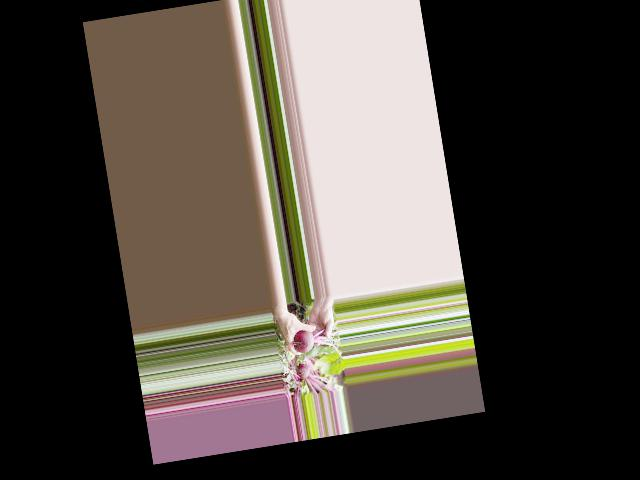beet: (291, 323, 343, 366)
